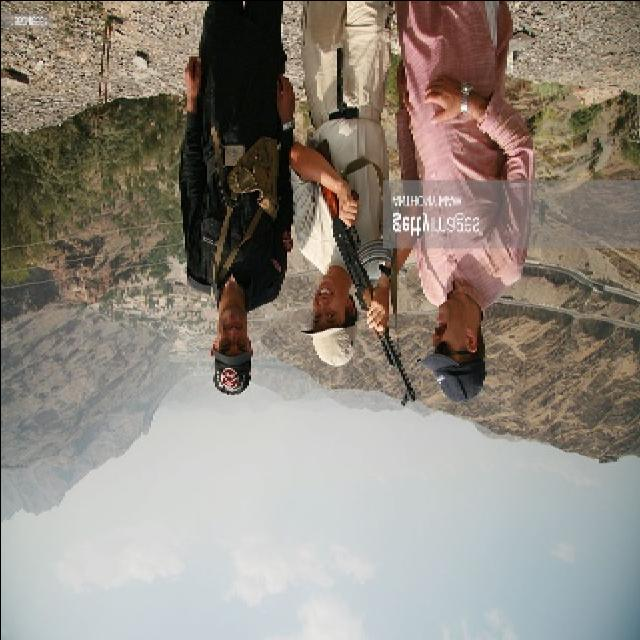rifle: (293, 136, 423, 409)
